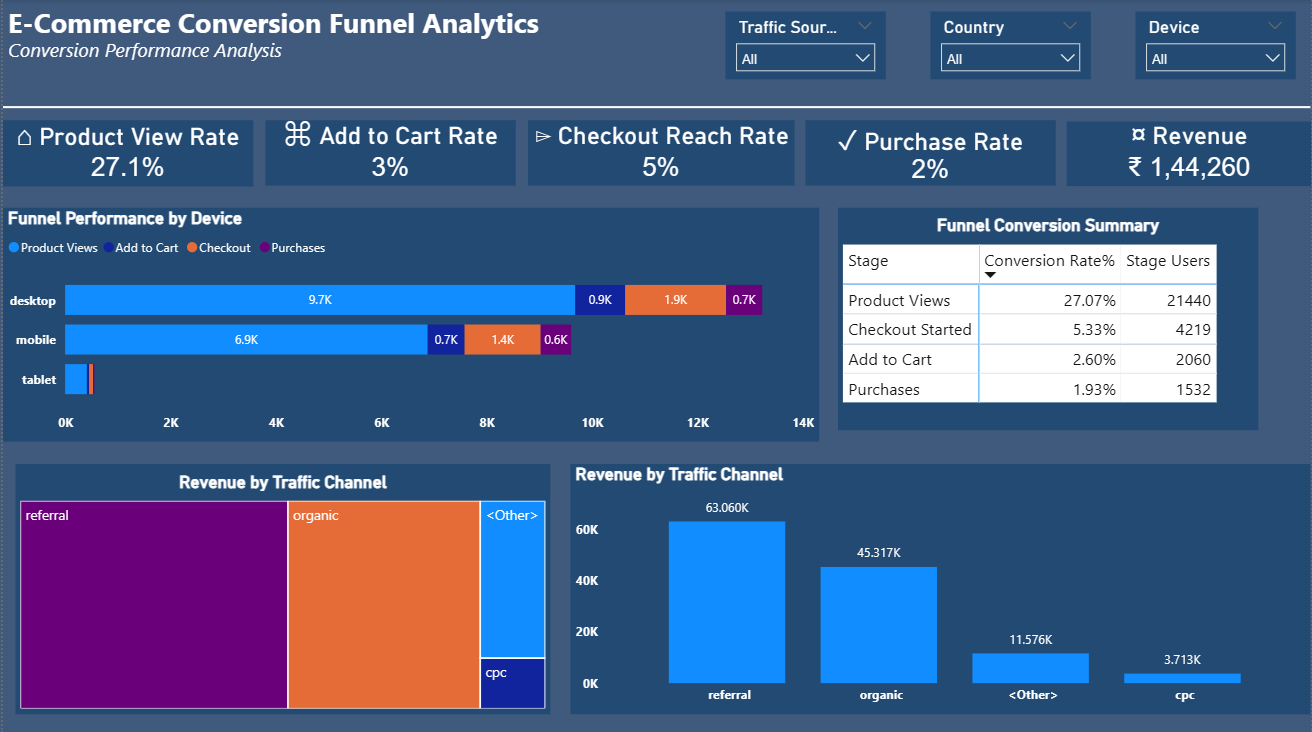

What the dashboard file says about the page in this screenshot:
{"tool":"powerbi","page":{"name":"Page 2","canvas":[1280,720],"ordinal":1},"visuals":[{"type":"textbox","box":[0,0,546.6,51.4],"z":0},{"type":"textbox","box":[0,31.8,346.1,39.1],"z":1000},{"type":"card","title":"⌂ Product View Rate","fields":{"Values":["fct_funnel_kpis.Product View Rate"]},"box":[0,118.6,244.6,64.5],"z":1000,"group":"g2"},{"type":"shape","box":[0,92.9,1280,25.7],"z":2000},{"type":"group","id":"g1","title":"Group 1","box":[706.8,12.2,557.6,66],"z":3000},{"type":"slicer","fields":{"Values":["fct_funnel_user_metrics.country"]},"box":[907.3,12.2,156.5,66],"z":3000,"group":"g1"},{"type":"card","title":"⌘  Add to Cart Rate","fields":{"Values":["fct_funnel_kpis.Add to Cart Rate"]},"box":[256.8,119.2,244.6,64.2],"z":3000,"group":"g2"},{"type":"slicer","fields":{"Values":["fct_funnel_user_metrics.device_category"]},"box":[1107.9,12.2,156.5,66],"z":4000,"group":"g1"},{"type":"card","title":"⌲  Checkout Reach Rate","fields":{"Values":["fct_funnel_kpis.Checkout Reach Rate"]},"box":[513.6,119.2,260.5,64.2],"z":4000,"group":"g2"},{"type":"barChart","title":"Funnel Performance by Device","fields":{"Category":["fct_funnel_user_metrics.device_category"],"Y":["fct_funnel_kpis.Product Views","fct_funnel_kpis.Add to Cart Users","fct_funnel_kpis.Checkout Users","fct_funnel_kpis.Purchase Users"]},"box":[0,204.2,798.5,228.7],"z":4000},{"type":"slicer","fields":{"Values":["fct_funnel_user_metrics.traffic_source"]},"box":[706.8,12.2,156.5,66],"z":5000,"group":"g1"},{"type":"columnChart","title":"Revenue by Traffic Channel","fields":{"Category":["fct_funnel_user_metrics.traffic_medium"],"Y":["Sum(fct_funnel_user_metrics.total_revenue)"]},"box":[555.2,454.9,725.1,244.6],"z":5000},{"type":"card","title":"✓  Purchase Rate","fields":{"Values":["fct_funnel_kpis.Purchase Rate"]},"box":[785.1,119.2,244.6,64.2],"z":6000,"group":"g2"},{"type":"pivotTable","title":"Funnel Conversion Summary","fields":{"Values":["dim_funnel_stage.Stage Conversion %","dim_funnel_stage.Stage Users"],"Rows":["dim_funnel_stage.Stage"]},"box":[816.9,204.2,410.9,217.7],"z":6000},{"type":"card","title":"¤  Revenue","fields":{"Values":["Sum(fct_funnel_kpis.total_revenue)"]},"box":[1040.6,120.2,239.7,63],"z":7000,"group":"g2"},{"type":"treemap","title":"Revenue by Traffic Channel","fields":{"Group":["fct_funnel_user_metrics.traffic_medium"],"Values":["Sum(fct_funnel_user_metrics.total_revenue)"]},"box":[12.2,454.9,523.4,244.6],"z":7000},{"type":"group","id":"g2","title":"Group 2","box":[0,118.6,1280.3,64.8],"z":8000}]}

Visuals, with their boxes in screenshot pixels (x1, y1, x2, y2), scaled from the page's 1280x720 canvas onto the 1312x732 screenshot:
textbox: 0, 0, 560, 52
textbox: 0, 32, 355, 72
"⌂ Product View Rate" card: 0, 121, 251, 186
shape: 0, 94, 1311, 121
"Group 1" group: 724, 12, 1296, 80
slicer - fct_funnel_user_metrics.country: 930, 12, 1090, 80
"⌘  Add to Cart Rate" card: 263, 121, 514, 186
slicer - fct_funnel_user_metrics.device_category: 1136, 12, 1296, 80
"⌲  Checkout Reach Rate" card: 526, 121, 793, 186
"Funnel Performance by Device" barChart: 0, 208, 818, 440
slicer - fct_funnel_user_metrics.traffic_source: 724, 12, 885, 80
"Revenue by Traffic Channel" columnChart: 569, 462, 1311, 711
"✓  Purchase Rate" card: 805, 121, 1055, 186
"Funnel Conversion Summary" pivotTable: 837, 208, 1258, 429
"¤  Revenue" card: 1067, 122, 1311, 186
"Revenue by Traffic Channel" treemap: 13, 462, 549, 711
"Group 2" group: 0, 121, 1311, 186
